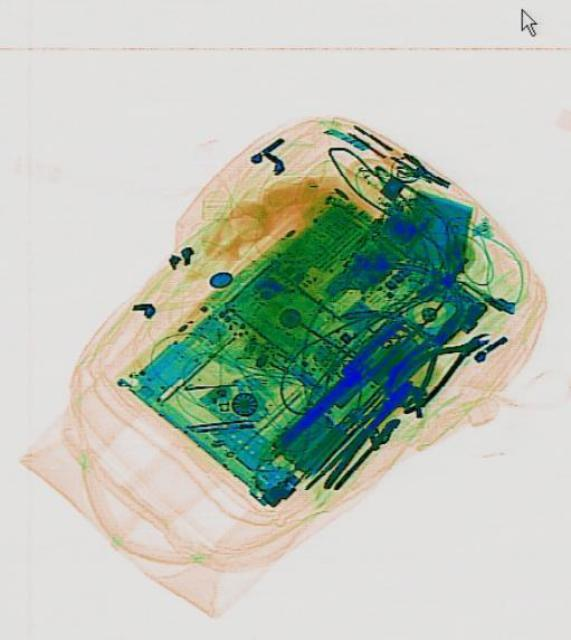Pliers: (378, 312, 501, 418)
